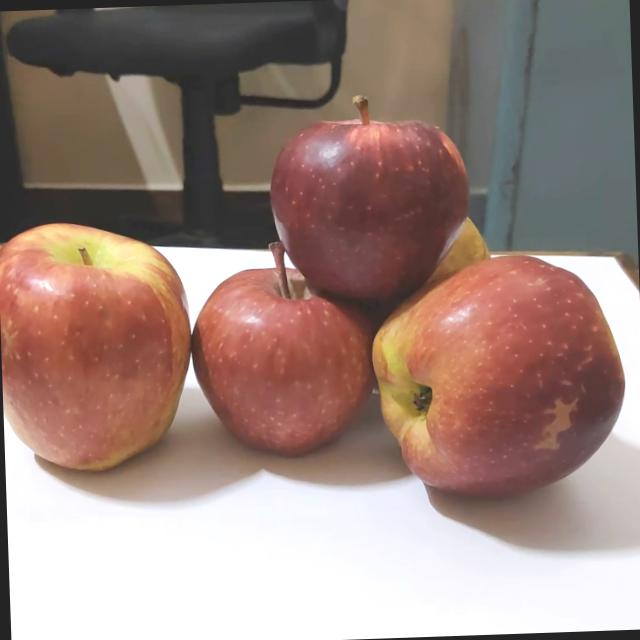apple: (366, 252, 634, 510), (0, 219, 198, 484), (262, 92, 479, 314), (185, 238, 378, 473), (405, 212, 499, 295)
